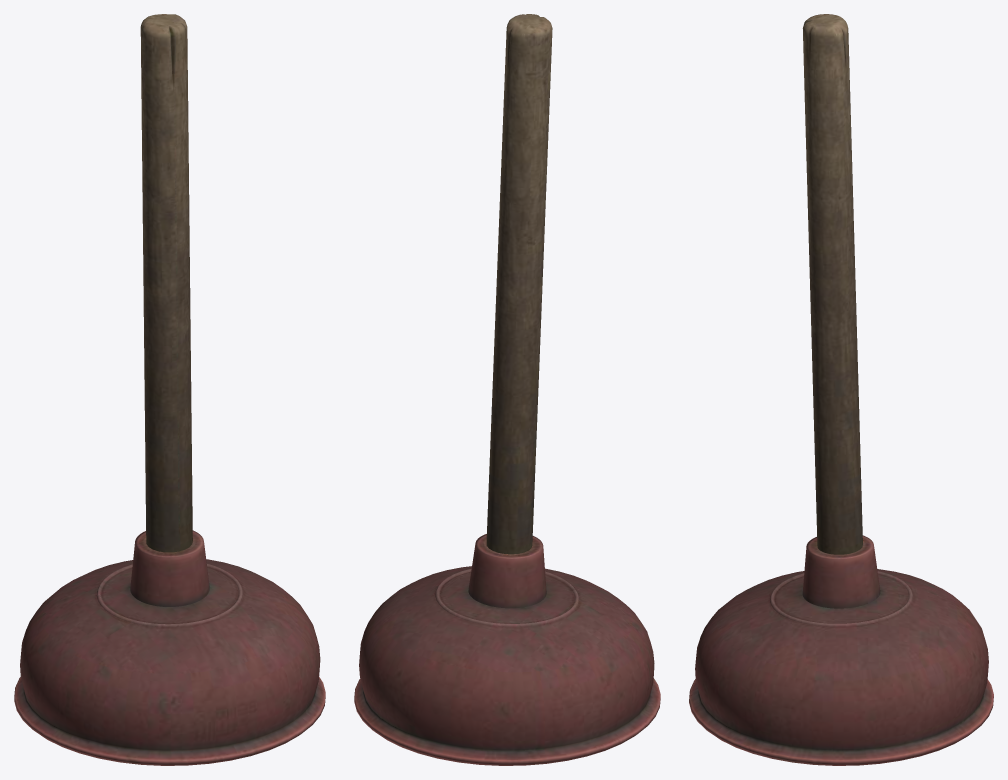
3 renders of one model, left to right at view 1: azimuth 30°, elevation 25°; view 2: azimuth 150°, elevation 25°; view 3: azimuth 270°, elevation 25°, orthographic. The views are drawn at different scales.
Visible parts, largest first — view 1: plunger; view 2: plunger; view 3: plunger.
Part boxes in pixels (bbox=[...]): plunger: bbox=[14, 14, 325, 765]; plunger: bbox=[354, 14, 660, 765]; plunger: bbox=[689, 14, 993, 765].
Bounding box in the file's own units: 0.1721 × 0.4211 × 0.1721.
Materials: 1 (1 with a texture image).
